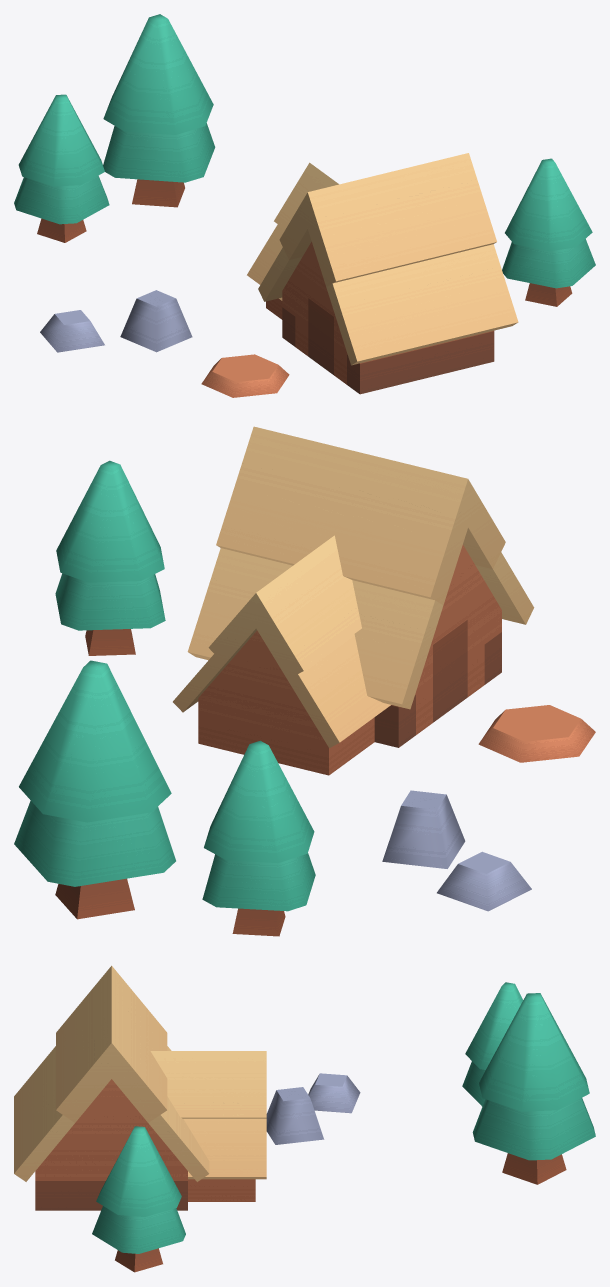
The model's file is hx_building-watermill.glb.
3 renders of one model, top to bottom at view 1: azimuth 30°, elevation 25°; view 2: azimuth 150°, elevation 25°; view 3: azimuth 270°, elevation 25°, orthographic. The views are drawn at different scales.
Size of the model in its own units: 0.8358 by 0.3567 by 0.9608.
Materials: 1 (1 with a texture image).
